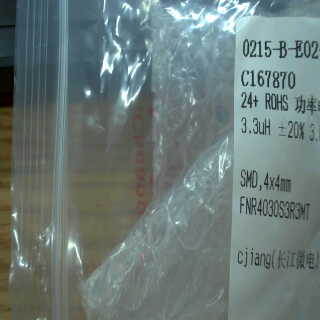3.3uH: (236, 109, 277, 142)
